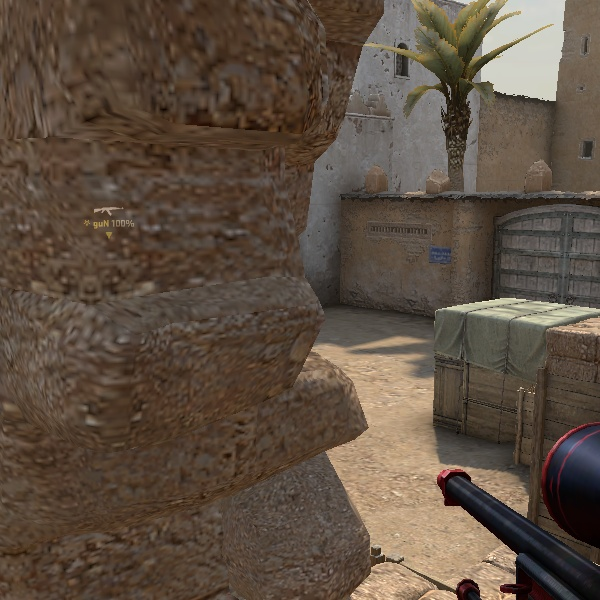ct_head: (496, 372, 600, 594)
